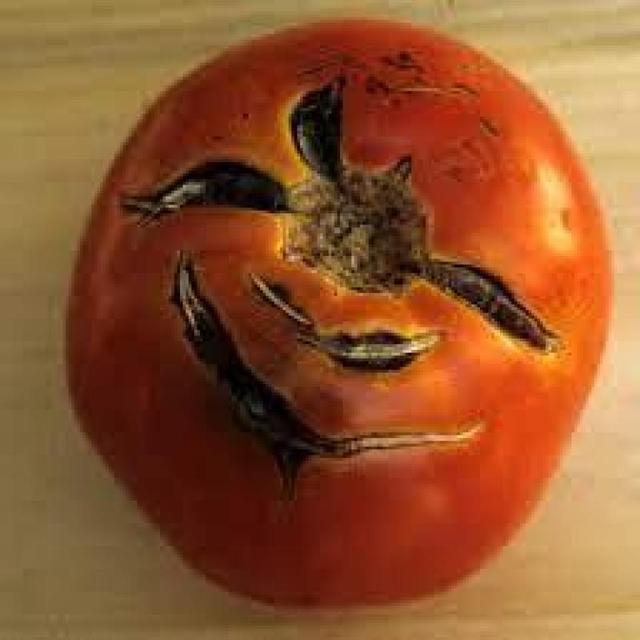Cracking Fruit: (195, 140, 265, 243)
